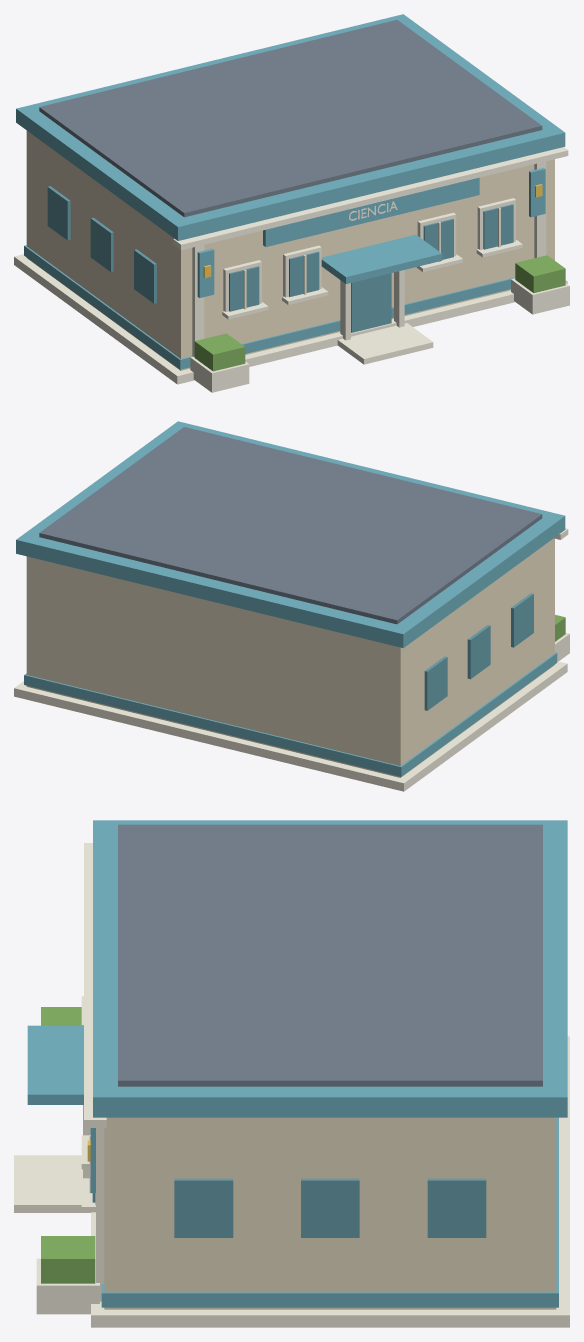
File: ciencia.glb
3 views of the same model, one above another, from view 1: azimuth 30°, elevation 25°; view 2: azimuth 150°, elevation 25°; view 3: azimuth 270°, elevation 25° (orthographic). The views are drawn at different scales.
Visible parts, largest first — view 1: Foundation; view 2: Foundation; view 3: Foundation.
Boxes of the visible parts, left/top/right/bottom form: Foundation: left=14, top=14, right=569, bottom=392; Foundation: left=14, top=421, right=569, bottom=791; Foundation: left=14, top=820, right=569, bottom=1327.
Size of the model in its own units: 14.6 by 5.75 by 12.3.
